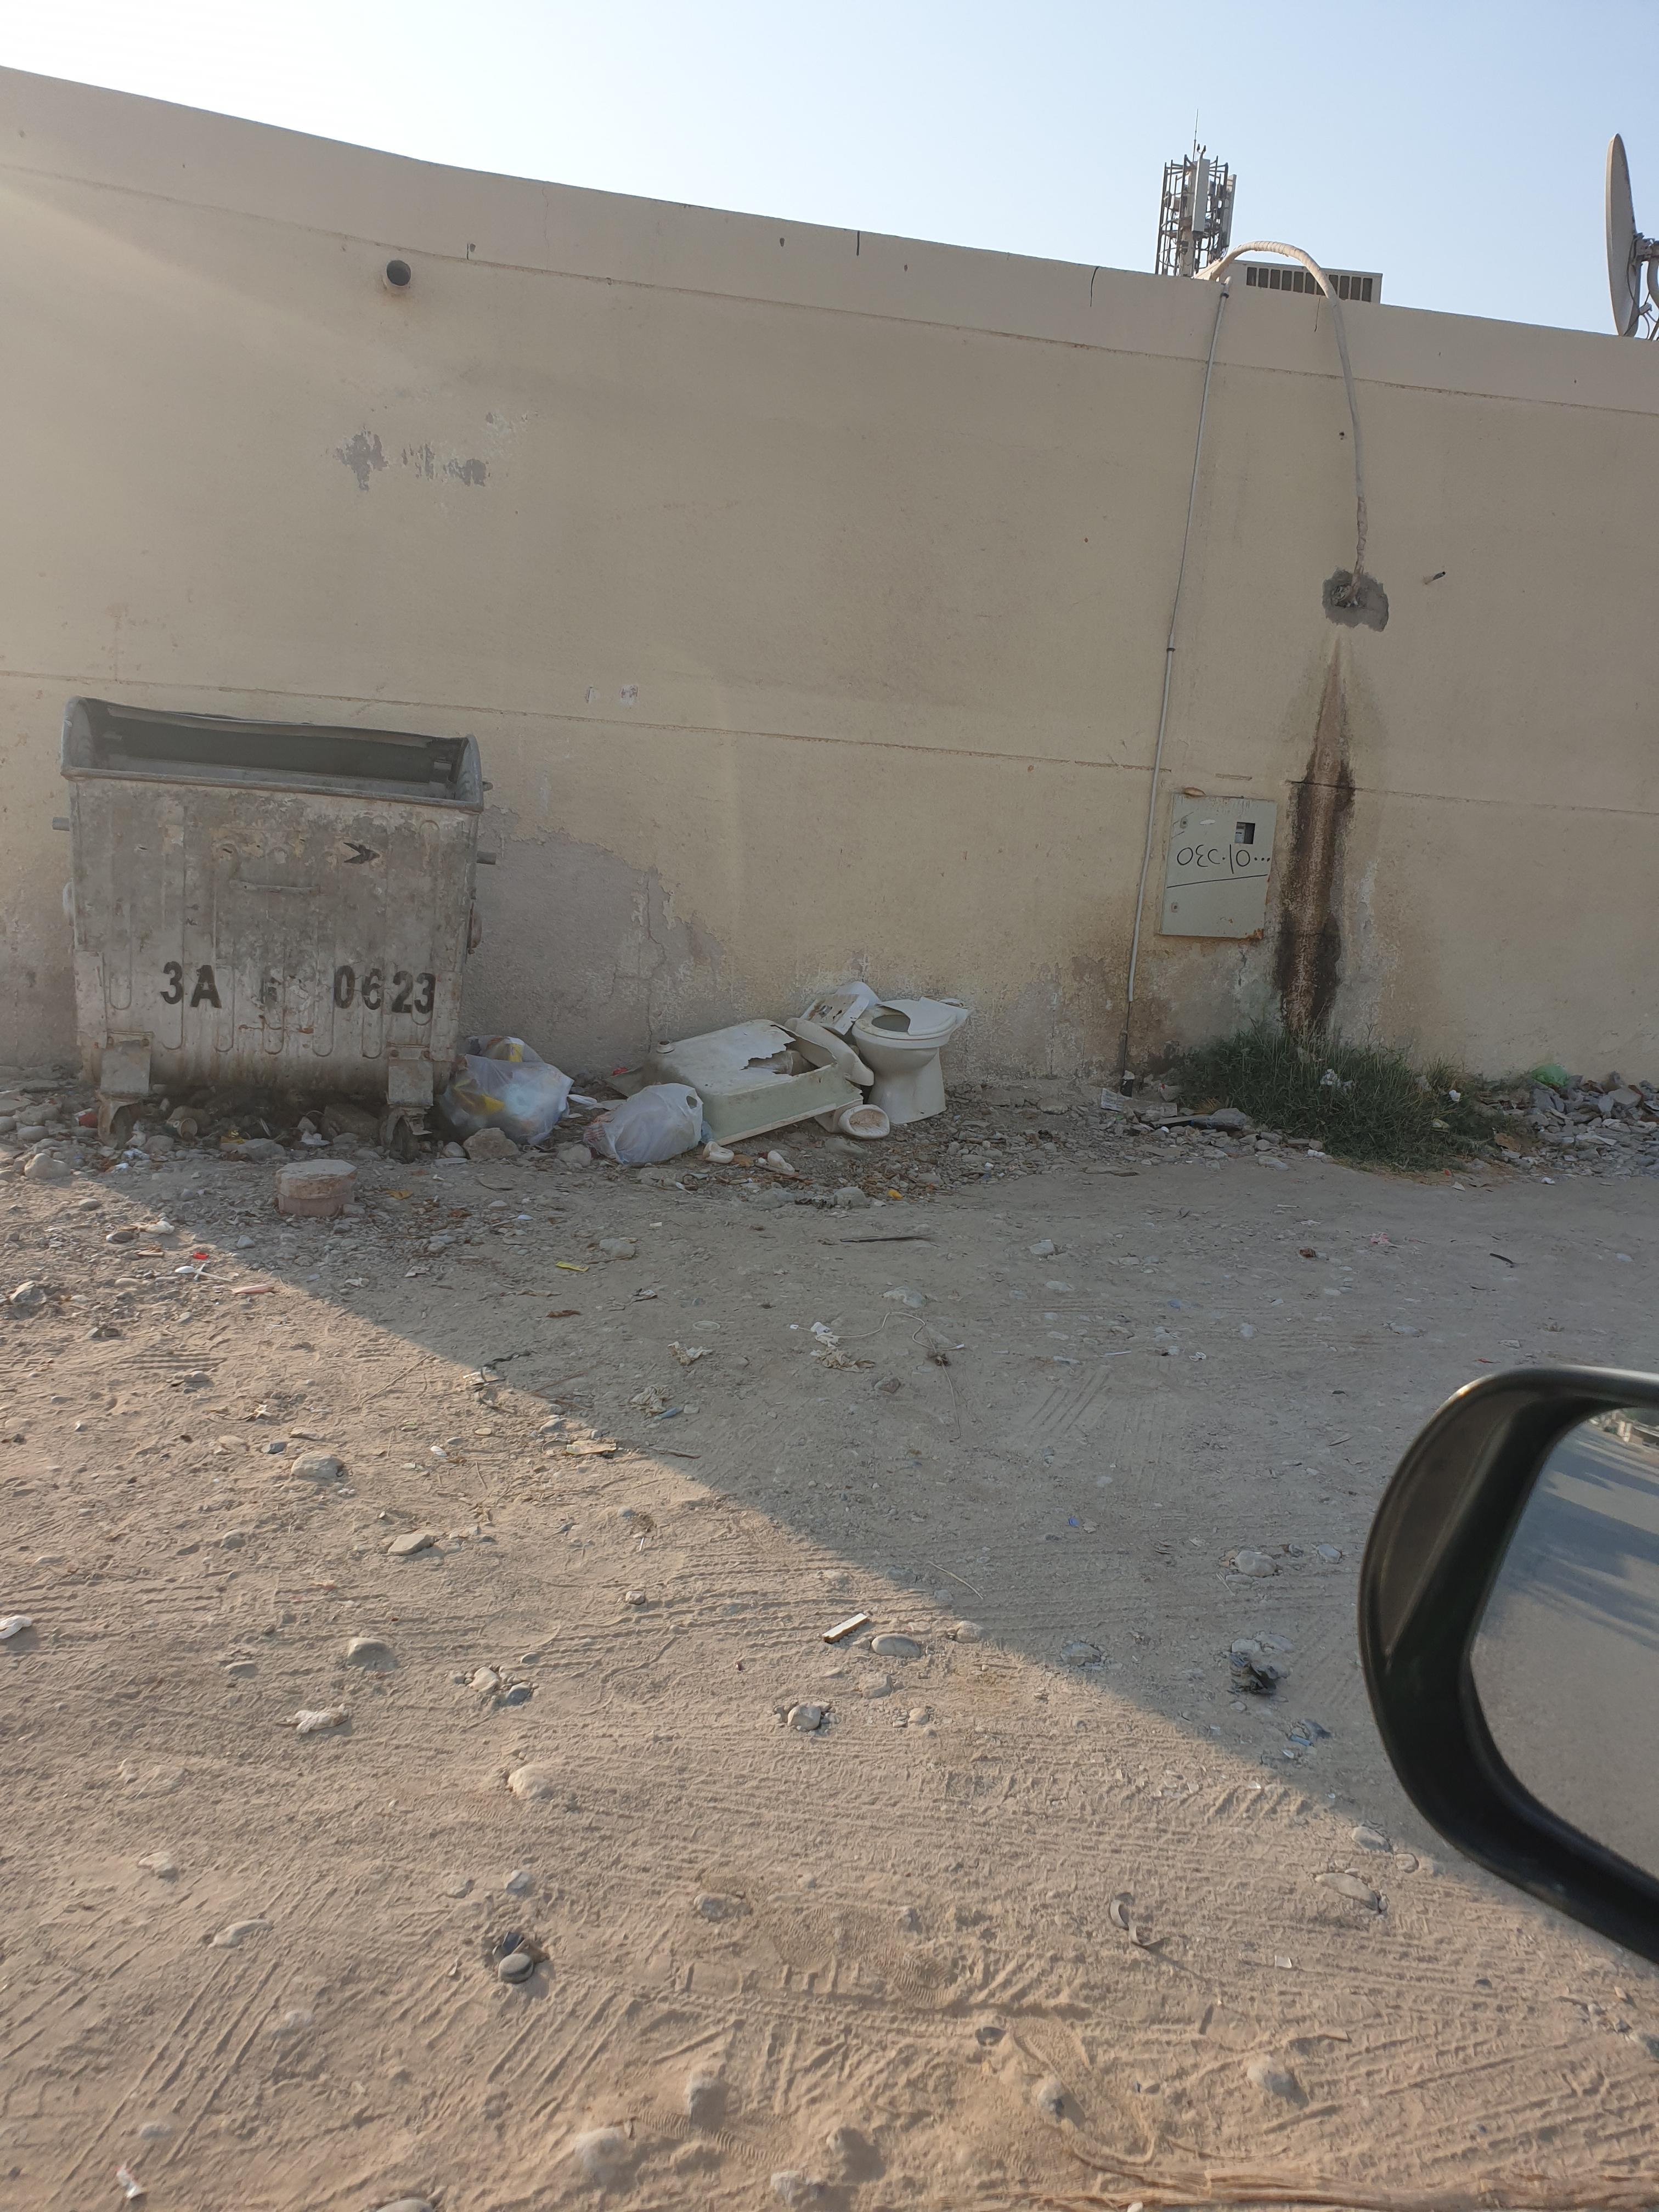uncollected_waste: (577, 949, 1075, 1176)
